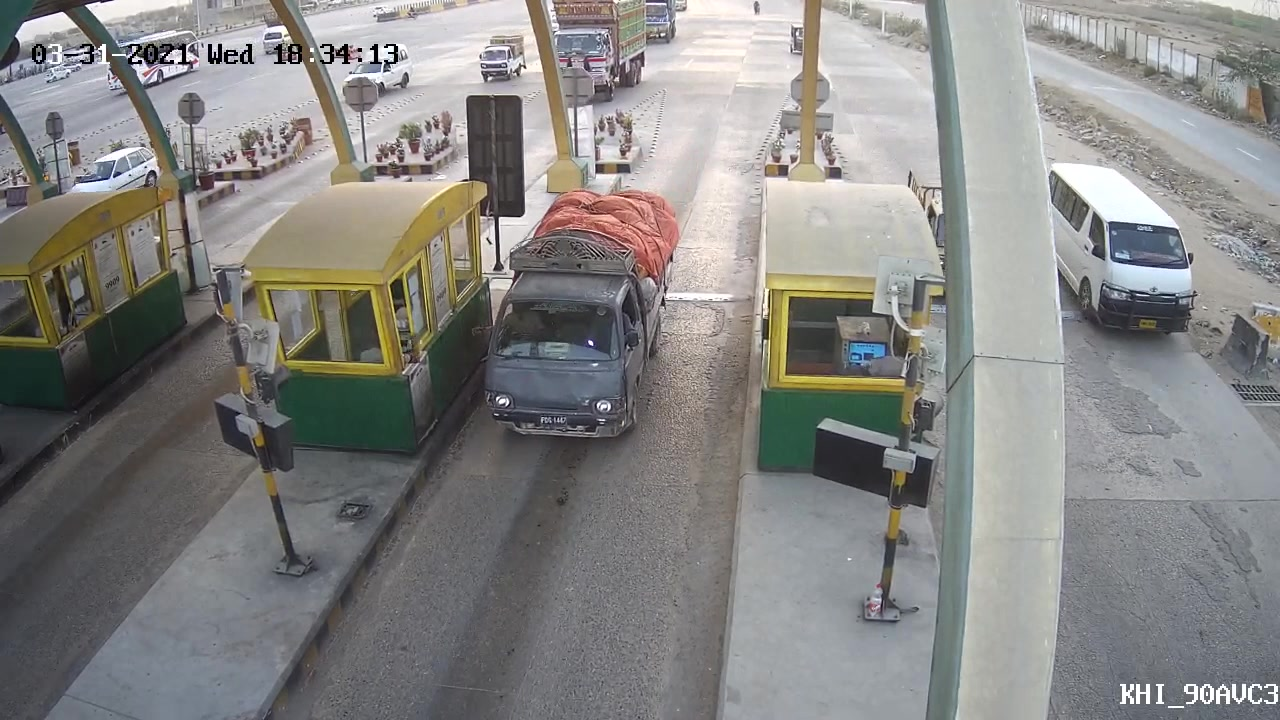F2: (466, 203, 674, 461)
